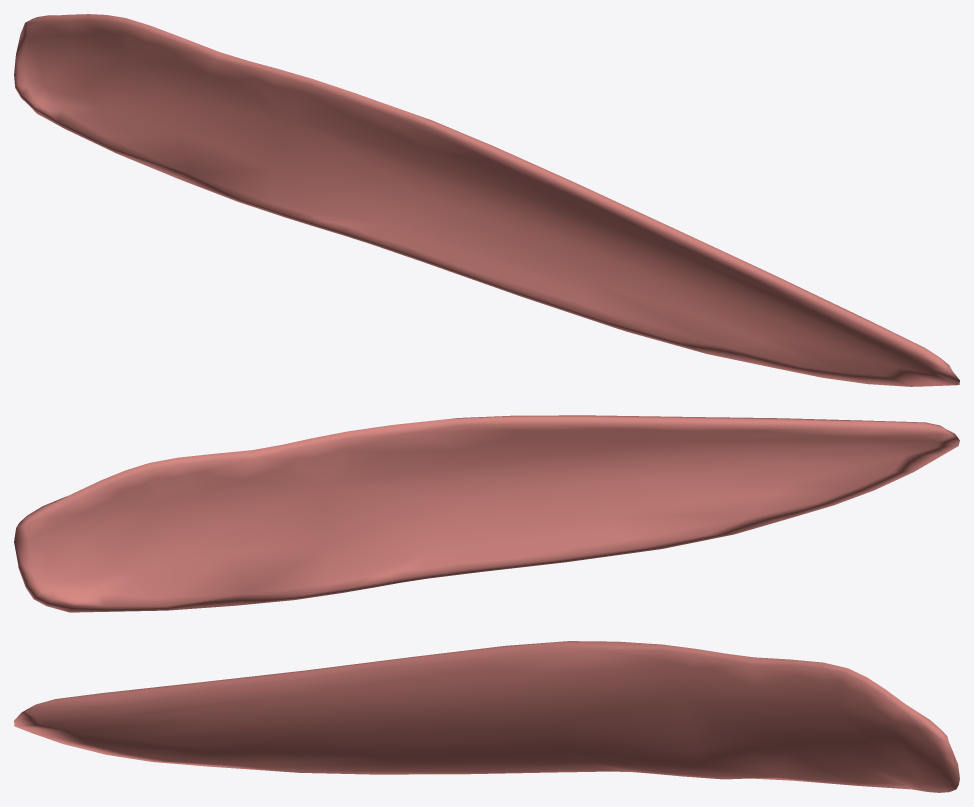
The picture shows the model from 3 angles, top to bottom: view 1: azimuth 90°, elevation 25°; view 2: azimuth 150°, elevation 25°; view 3: azimuth 270°, elevation 25°; orthographic projection. The views are drawn at different scales.
Visible parts, largest first — view 1: ZA_52f0fe0d01b1086d; view 2: ZA_52f0fe0d01b1086d; view 3: ZA_52f0fe0d01b1086d.
Boxes of the visible parts, x1,y1,x2,y2 form: ZA_52f0fe0d01b1086d: (14, 14, 959, 386); ZA_52f0fe0d01b1086d: (14, 415, 959, 612); ZA_52f0fe0d01b1086d: (14, 641, 959, 792).
Size of the model in its own units: 0.0146 by 0.00812 by 0.0307.
